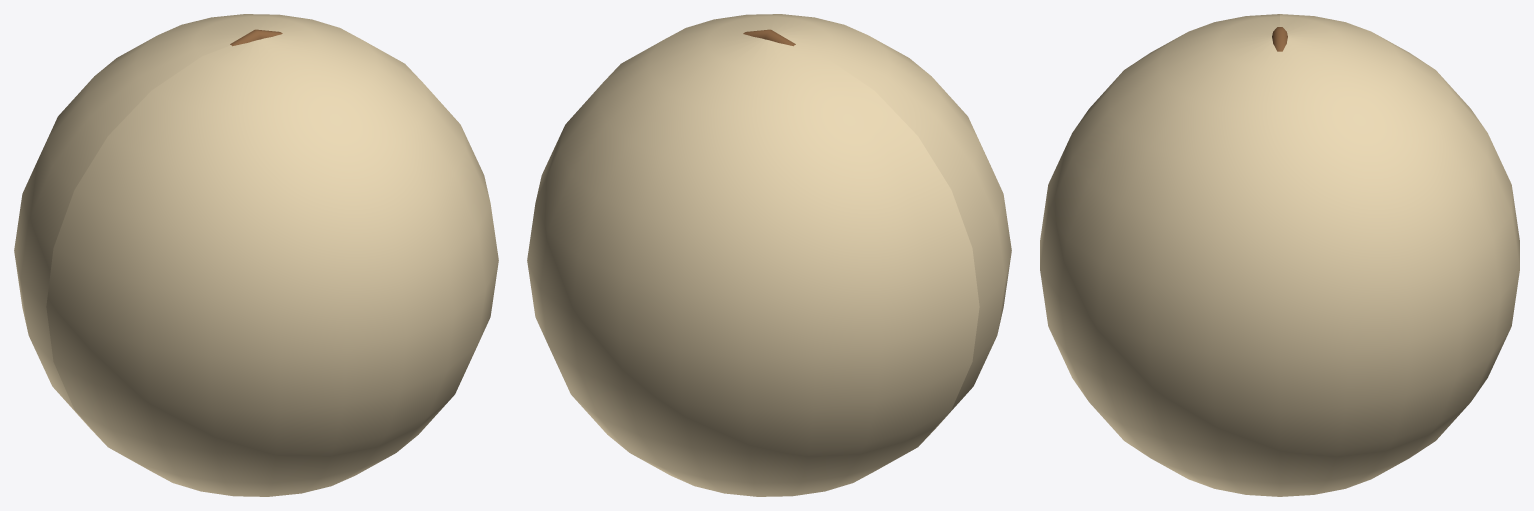
Rendered from grain-heap-5.glb.
3 renders of one model, left to right at view 1: azimuth 30°, elevation 25°; view 2: azimuth 150°, elevation 25°; view 3: azimuth 270°, elevation 25°, orthographic.
Visible parts, largest first — view 1: cream; view 2: cream; view 3: cream.
Part boxes in pixels (left/top/right/bottom): cream: left=14, top=14, right=498, bottom=496; cream: left=527, top=14, right=1011, bottom=496; cream: left=1040, top=14, right=1519, bottom=496.
Bounding box in the file's own units: 0.3 × 0.3035 × 0.2969.
